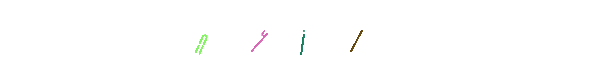4: (220, 0, 300, 80)
I: (255, 0, 335, 80)
L: (291, 0, 371, 80)
N: (165, 0, 245, 80)
